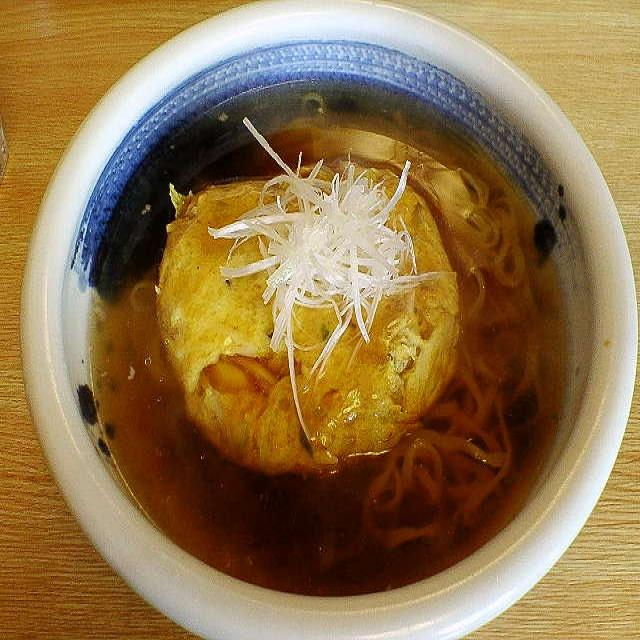面条主食: (89, 59, 584, 581)
